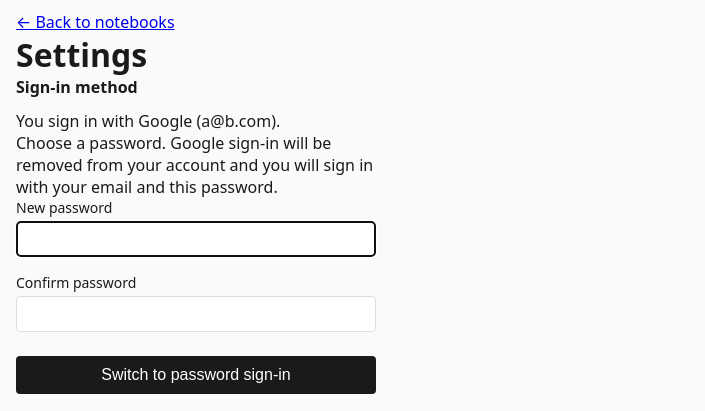
Test case: SettingsPage › asks to verify again when the re-authentication expired
Step 1. Type "newsecret1" into the password field labelled "New password" → (196, 239), box [16,221,376,257]
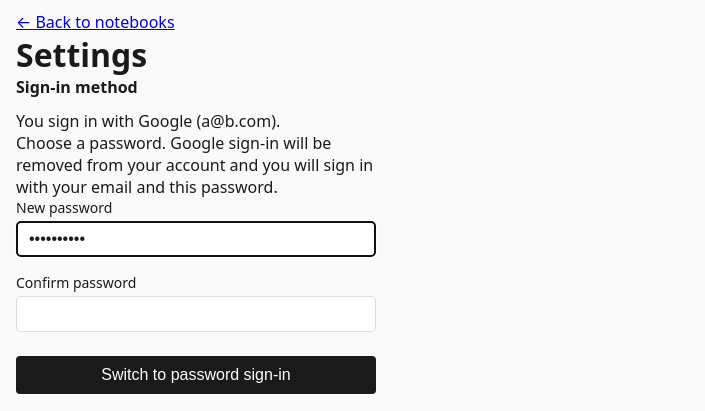
Step 2. Type "newsecret1" into the password field labelled "Confirm password" → (196, 314), box [16,296,376,332]
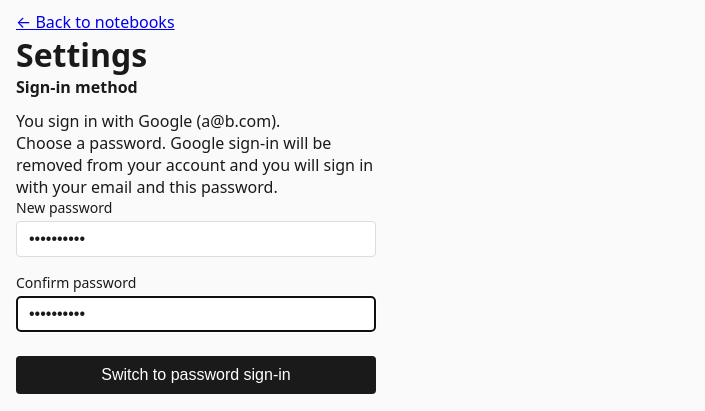
Step 3. Click the button "Switch to password sign-in" → (196, 375), box [16,356,376,394]
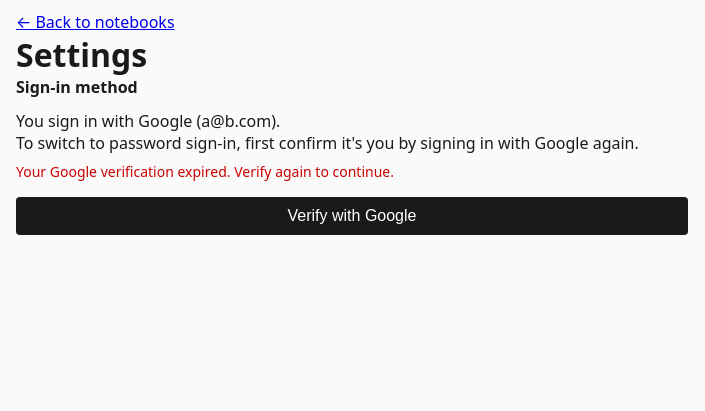
Now the text "Your Google verification expired. Verify again to continue." is shown, box [16,162,394,181]
Now the button "Verify with Google" is shown, box [16,197,688,235]
